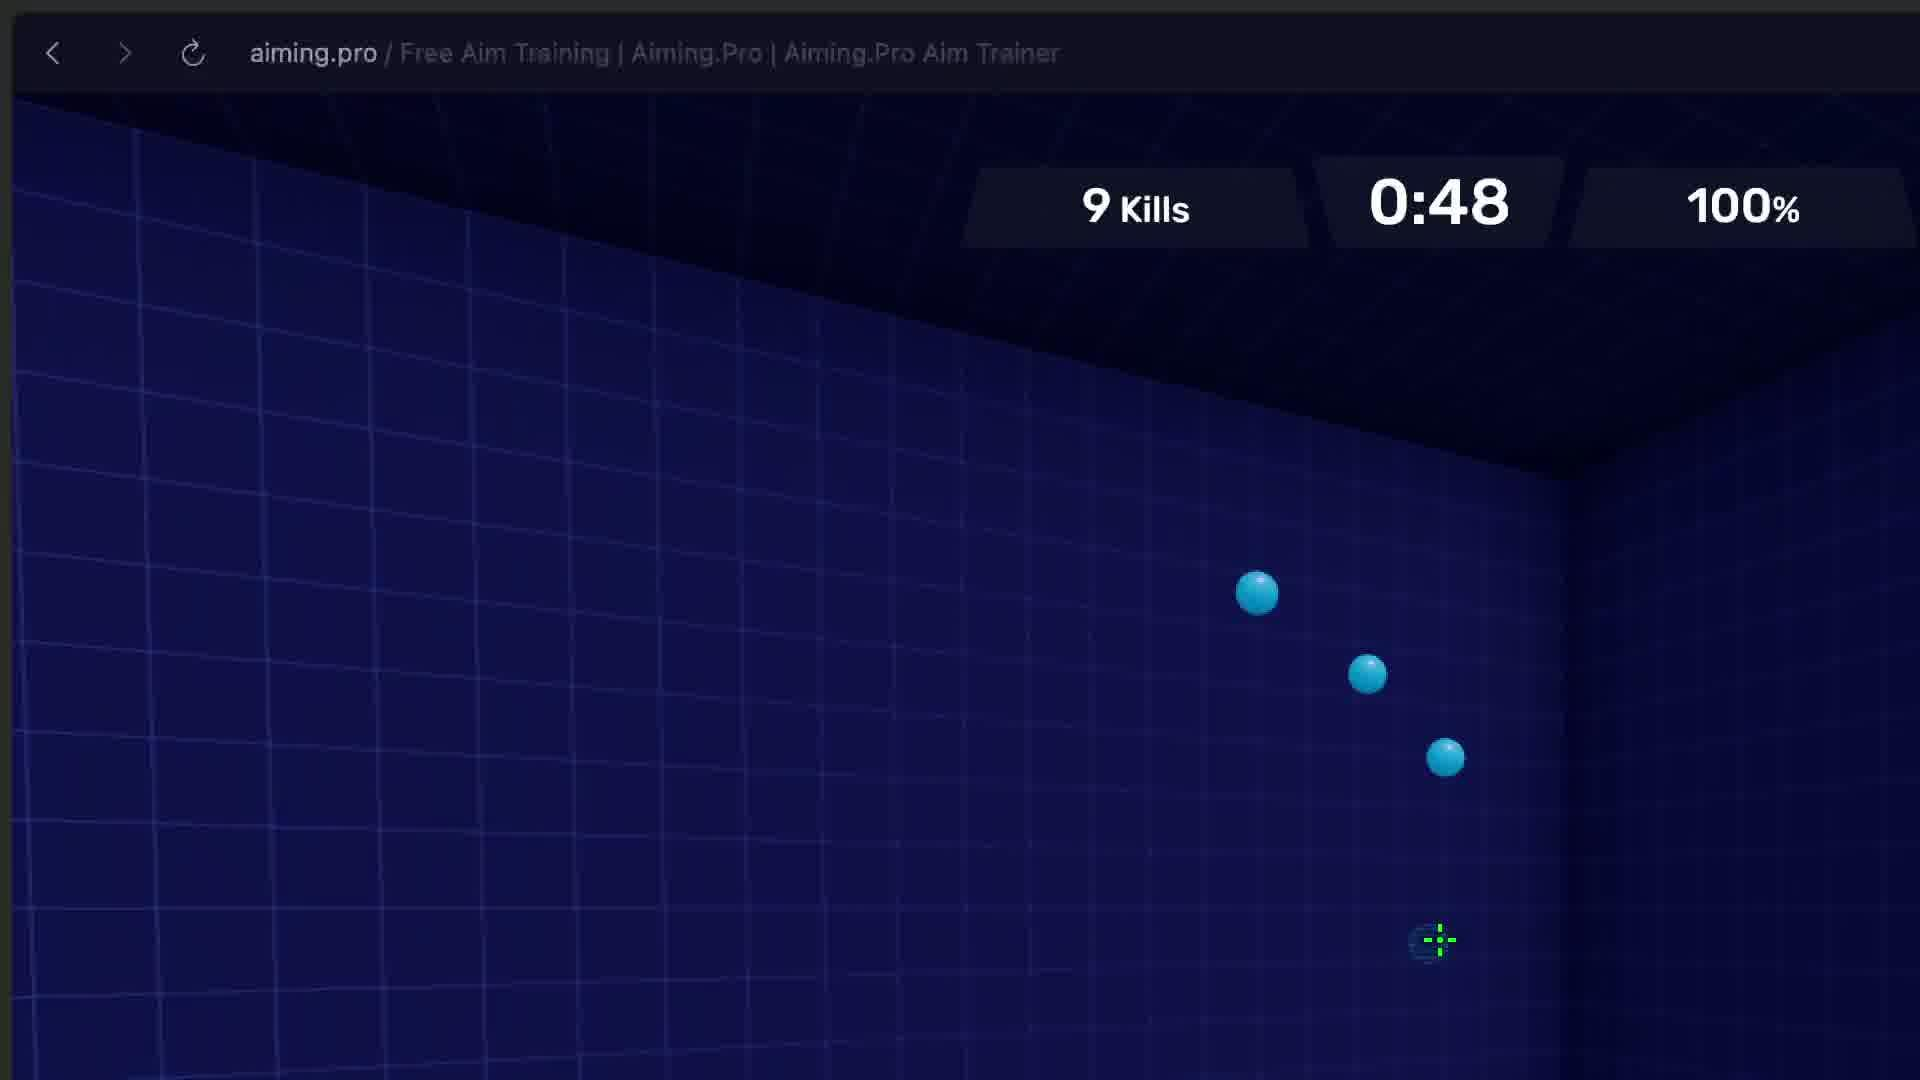target: (1236, 571, 1276, 615), (1348, 653, 1389, 694), (1425, 737, 1465, 775)
